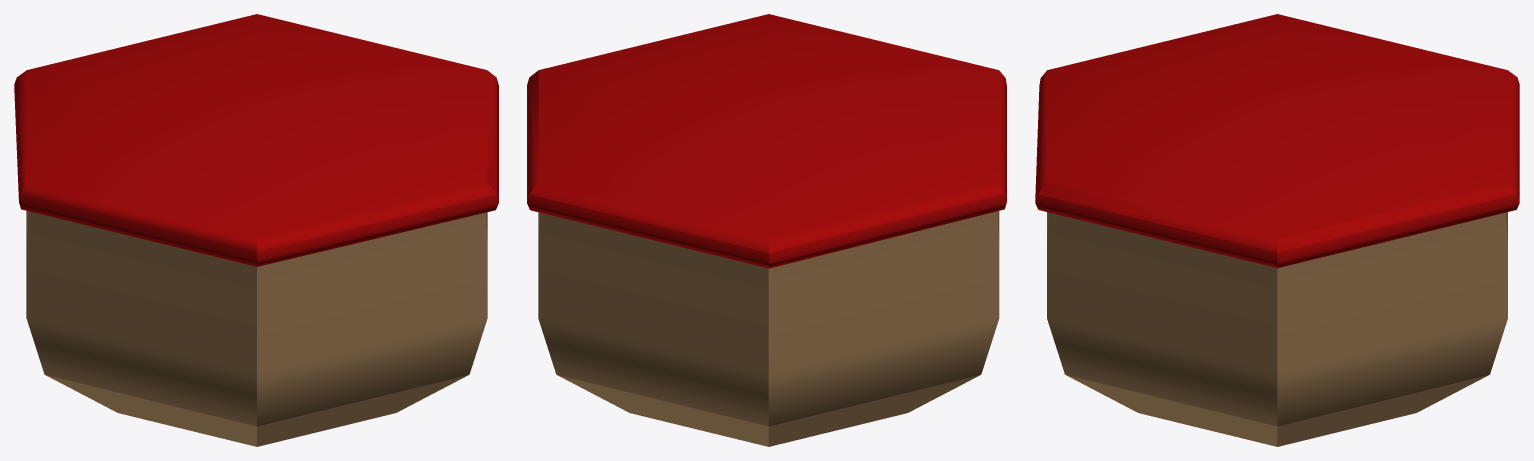
The model's file is Tile.fbx.
3 renders of one model, left to right at view 1: azimuth 30°, elevation 25°; view 2: azimuth 150°, elevation 25°; view 3: azimuth 270°, elevation 25°, orthographic.
Visible parts, largest first — view 1: pasted__pasted__polySurface18; view 2: pasted__pasted__polySurface18; view 3: pasted__pasted__polySurface18.
Part boxes in pixels (x1,y1,x2,y2): pasted__pasted__polySurface18: [14, 14, 498, 446]; pasted__pasted__polySurface18: [527, 14, 1006, 446]; pasted__pasted__polySurface18: [1035, 14, 1519, 446].
Bounding box in the file's own units: 1.92 × 1.21 × 1.68.
